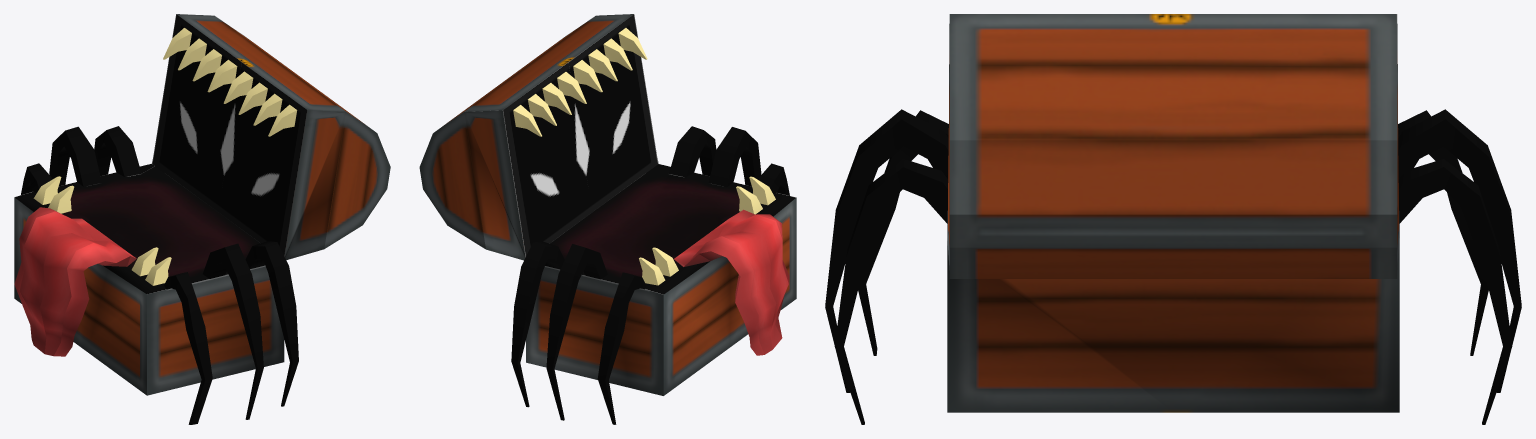
File: cofrearana_000001.obj
3 renders of one model, left to right at view 1: azimuth 30°, elevation 25°; view 2: azimuth 150°, elevation 25°; view 3: azimuth 270°, elevation 25°, orthographic. The views are drawn at different scales.
Visible parts, largest first — view 1: cofreArana:Mesh; view 2: cofreArana:Mesh; view 3: cofreArana:Mesh.
Part boxes in pixels (<box>): cofreArana:Mesh: <box>14,14,390,424</box>; cofreArana:Mesh: <box>419,14,796,424</box>; cofreArana:Mesh: <box>825,14,1521,424</box>.
Size of the model in its own units: 7.97 by 7 by 9.76.
